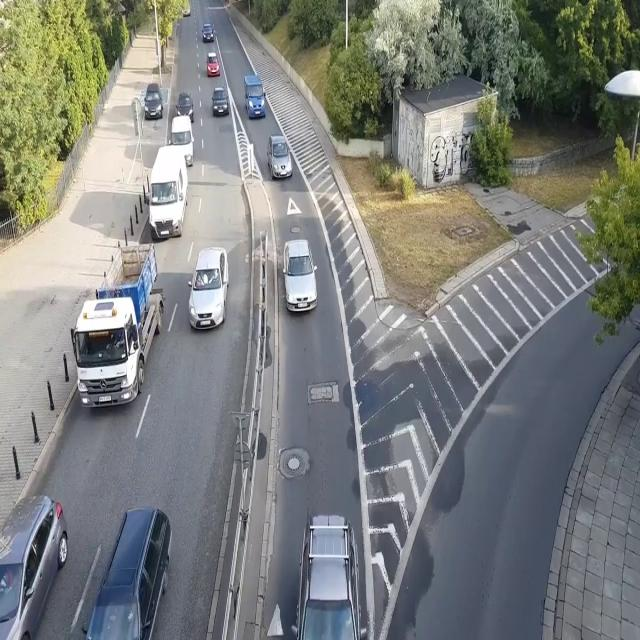car: (81, 504, 173, 640), (290, 511, 370, 640), (0, 495, 68, 640), (185, 246, 230, 329), (280, 238, 320, 315), (266, 133, 293, 181), (142, 82, 164, 120), (174, 92, 195, 123), (211, 86, 229, 117), (206, 51, 221, 78), (201, 23, 214, 43), (182, 5, 190, 18)
truck: (72, 244, 167, 406)
van: (146, 146, 188, 242), (168, 115, 195, 168), (243, 74, 267, 120)
